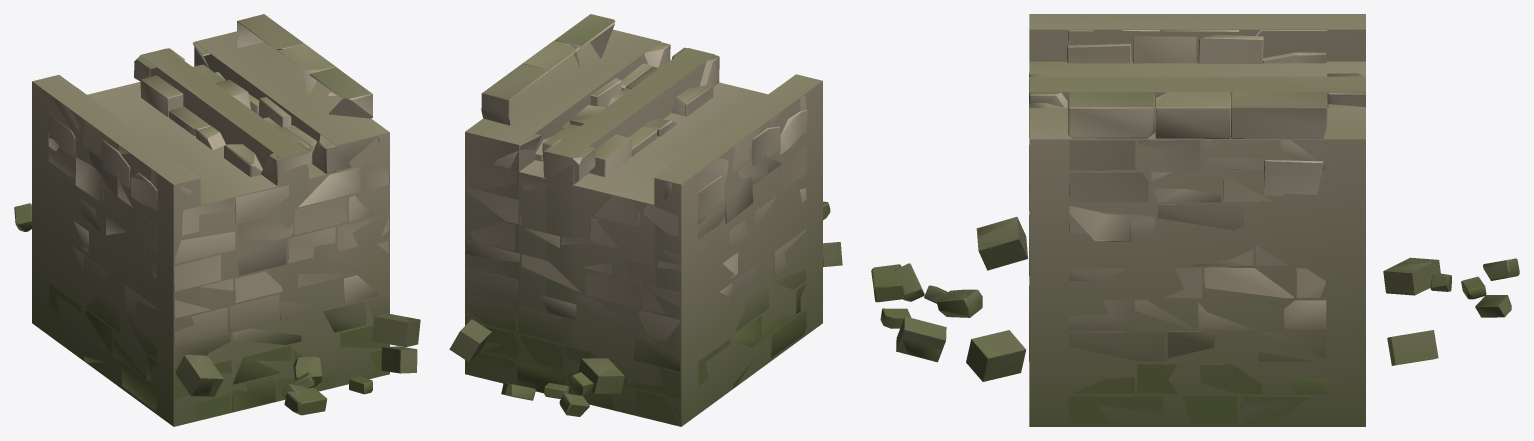
Rendered from citadel_wall_low.glb.
3 views of the same model, side by side, from view 1: azimuth 30°, elevation 25°; view 2: azimuth 150°, elevation 25°; view 3: azimuth 270°, elevation 25° (orthographic). The views are drawn at different scales.
Parts seen in each view (by area): view 1: citadel_wall_low_far, citadel_wall_low; view 2: citadel_wall_low_far, citadel_wall_low; view 3: citadel_wall_low_far, citadel_wall_low.
Boxes of the visible parts, x1=… form: citadel_wall_low_far: x1=32, y1=31, x2=420, y2=426; citadel_wall_low: x1=14, y1=14, x2=420, y2=419; citadel_wall_low_far: x1=449, y1=29, x2=842, y2=426; citadel_wall_low: x1=464, y1=14, x2=837, y2=425; citadel_wall_low_far: x1=896, y1=14, x2=1440, y2=426; citadel_wall_low: x1=871, y1=30, x2=1519, y2=425.
Size of the model in its own units: 19.75 by 22 by 40.45.
